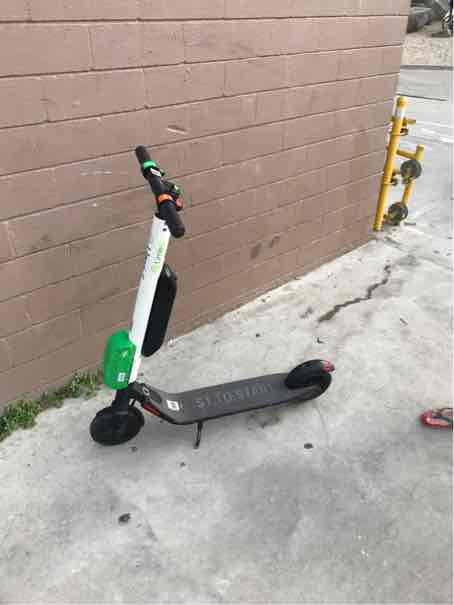scooter: (77, 142, 339, 467)
